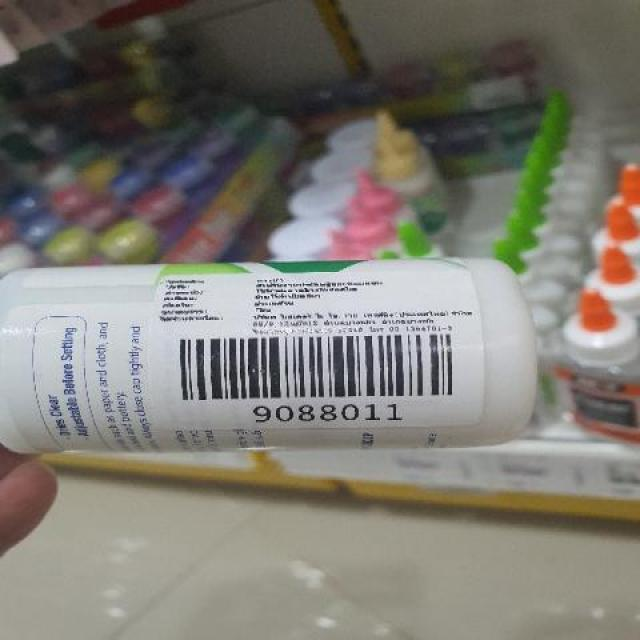Barcode: (164, 332, 472, 423)
